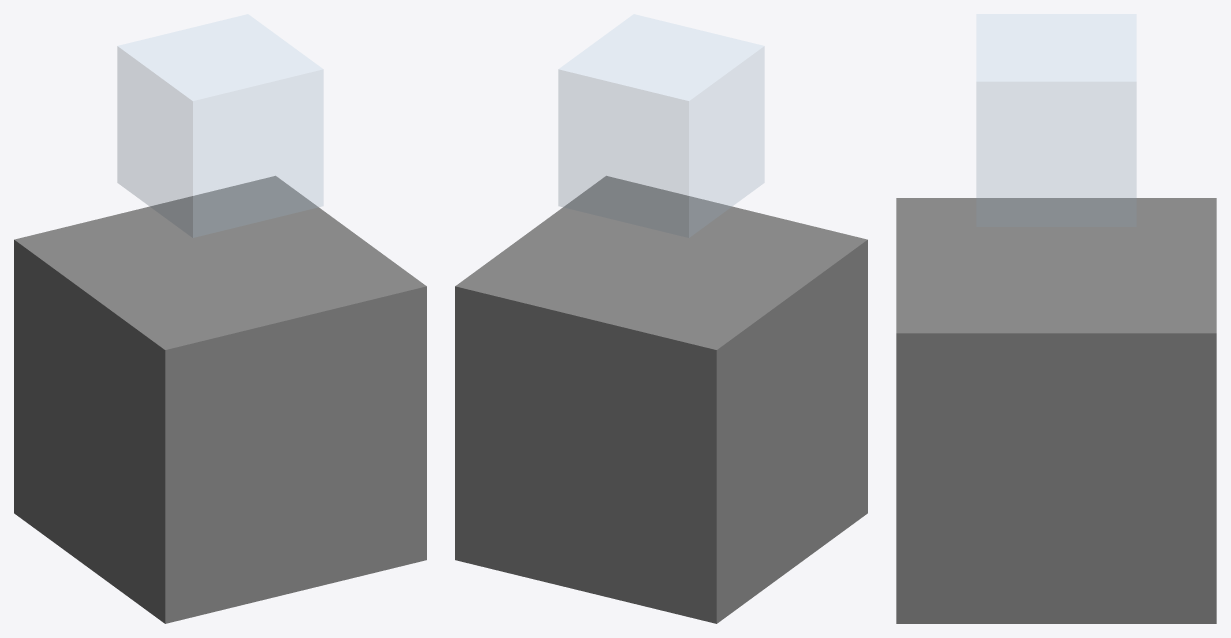
The model's file is glass.glb.
3 views of the same model, side by side, from view 1: azimuth 30°, elevation 25°; view 2: azimuth 150°, elevation 25°; view 3: azimuth 270°, elevation 25° (orthographic). The views are drawn at different scales.
Visible parts, largest first — view 1: a, b; view 2: a, b; view 3: a, b.
Part boxes in pixels (x1,y1,x2,y2): a: (14,175,426,623); b: (117,14,323,237); a: (455,175,867,623); b: (558,14,764,237); a: (896,198,1216,623); b: (976,14,1136,226).
Bounding box in the file's own units: 1 × 1.75 × 1.
